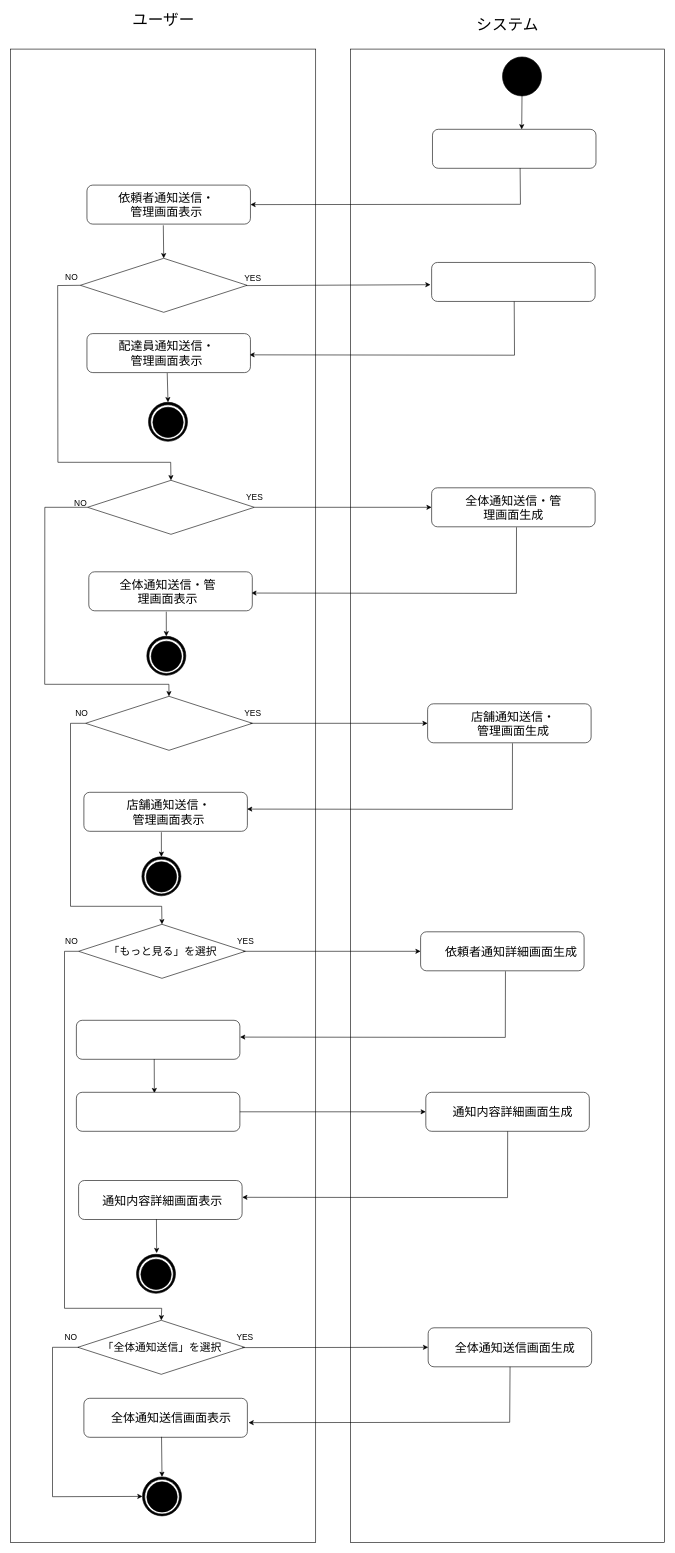
Image size: 675x1553. Some labels were removed from this diagram. The centre of each missing label's shape, as x and y in pixels:
"「全体」を選択" goes at (x=170, y=507).
"「店舗」を選択" goes at (x=168, y=723).
"「詳細」を選択" goes at (x=158, y=1111).
"「配達員」を選択" goes at (x=163, y=285).
"依頼者通知送信・管理画面生成" goes at (x=514, y=148).
"配達員通知詳細画面表示" goes at (x=158, y=1039).
"配達員通知送信・管理画面生成" goes at (x=513, y=281).
